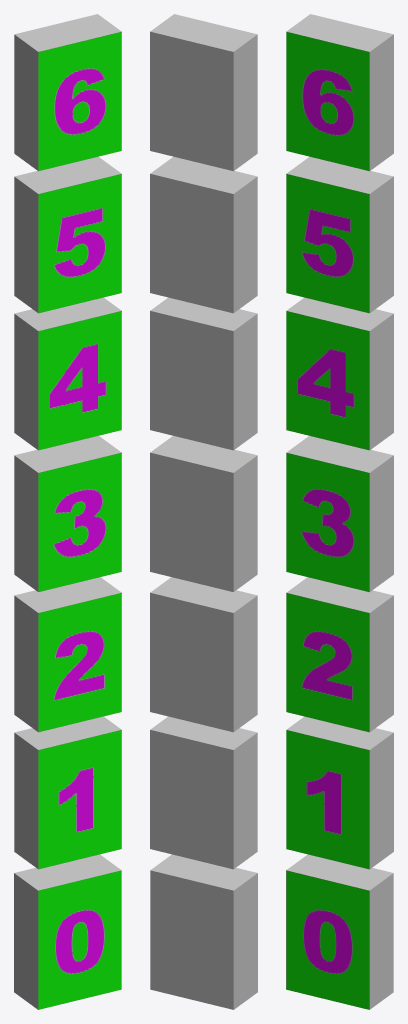
File: Boards.fbx
3 renders of one model, left to right at view 1: azimuth 30°, elevation 25°; view 2: azimuth 150°, elevation 25°; view 3: azimuth 330°, elevation 25°, orthographic.
Parts seen in each view (by area): view 1: Board6, Board5, Board3, Board0, Board2, Board4, Board1; view 2: Board6, Board5, Board3, Board0, Board2, Board4, Board1; view 3: Board6, Board5, Board3, Board0, Board2, Board1, Board4.
Boxes of the visible parts, x1,y1,x2,y2 form: Board6: (14, 14, 121, 171); Board5: (14, 156, 121, 313); Board3: (14, 435, 121, 591); Board0: (14, 854, 121, 1009); Board2: (14, 577, 121, 732); Board4: (14, 297, 121, 450); Board1: (14, 716, 121, 869); Board6: (150, 14, 257, 171); Board5: (150, 156, 257, 313); Board3: (150, 435, 257, 591); Board0: (150, 854, 257, 1009); Board2: (150, 577, 257, 732); Board4: (150, 297, 257, 450); Board1: (150, 716, 257, 869); Board6: (286, 14, 393, 171); Board5: (286, 156, 393, 313); Board3: (286, 436, 393, 592); Board0: (286, 854, 393, 1009); Board2: (286, 577, 393, 732); Board1: (286, 716, 393, 869); Board4: (286, 297, 393, 450).
Bounding box in the file's own units: 100 × 1097 × 50.
